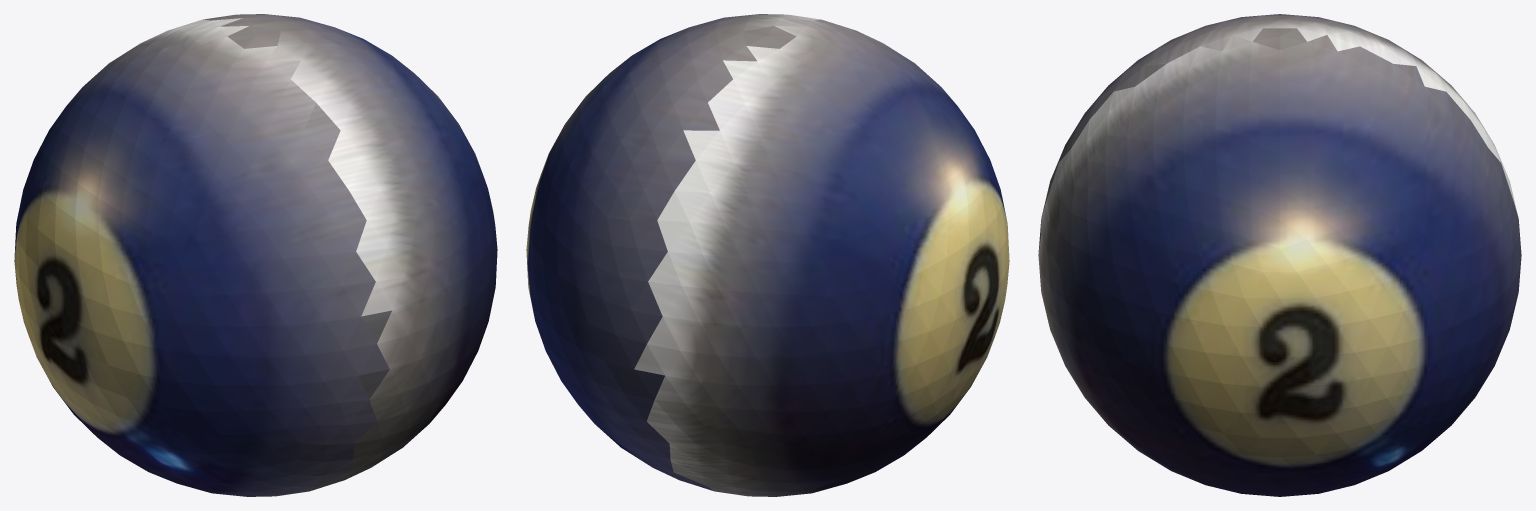
The model's file is balll_2.glb.
The picture shows the model from 3 angles, left to right: view 1: azimuth 30°, elevation 25°; view 2: azimuth 150°, elevation 25°; view 3: azimuth 270°, elevation 25°; orthographic projection.
Visible parts, largest first — view 1: Ball_1; view 2: Ball_1; view 3: Ball_1.
Boxes of the visible parts, x1,y1,x2,y2 form: Ball_1: (14, 14, 497, 496); Ball_1: (526, 14, 1009, 496); Ball_1: (1038, 14, 1521, 496).
Bounding box in the file's own units: 2 × 2 × 2.
1 material, 1 textured.
